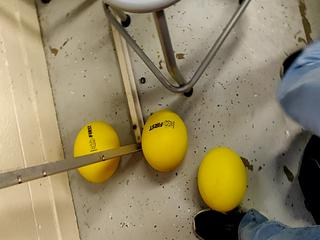power_cell: (63, 118, 121, 189), (131, 106, 188, 177), (193, 141, 250, 212)
